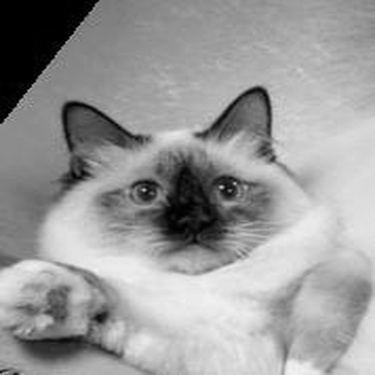cat: (2, 83, 363, 372)
